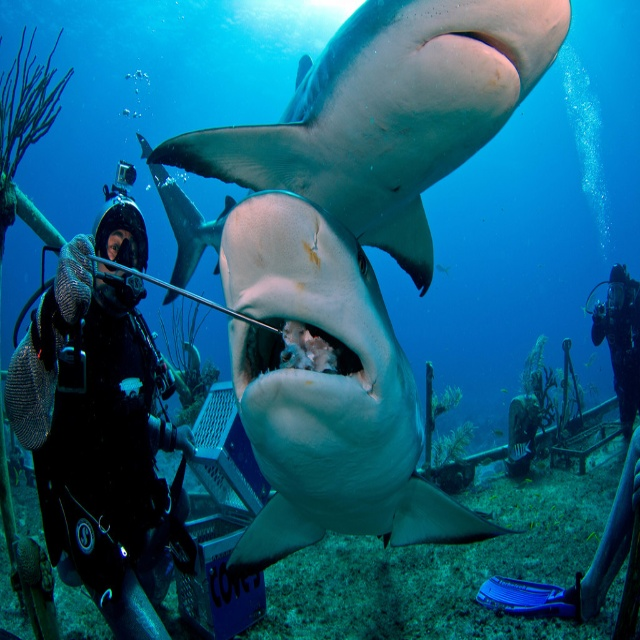Shark: (147, 0, 577, 293), (220, 189, 516, 566)
